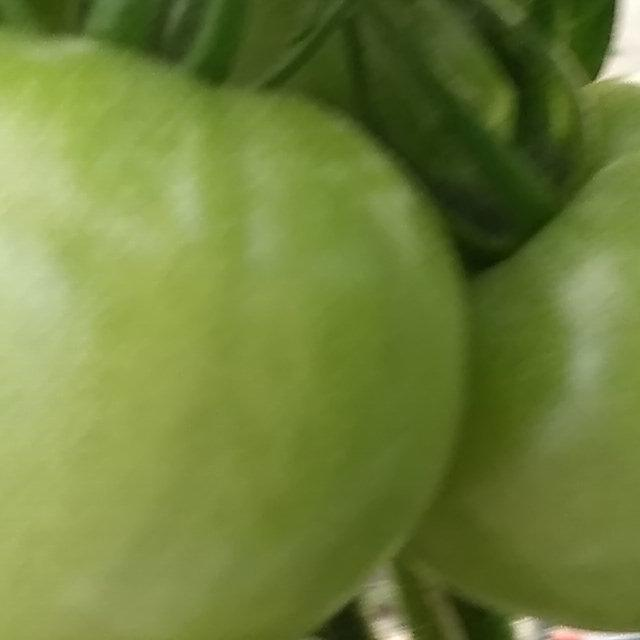tomato: (0, 0, 500, 640)
